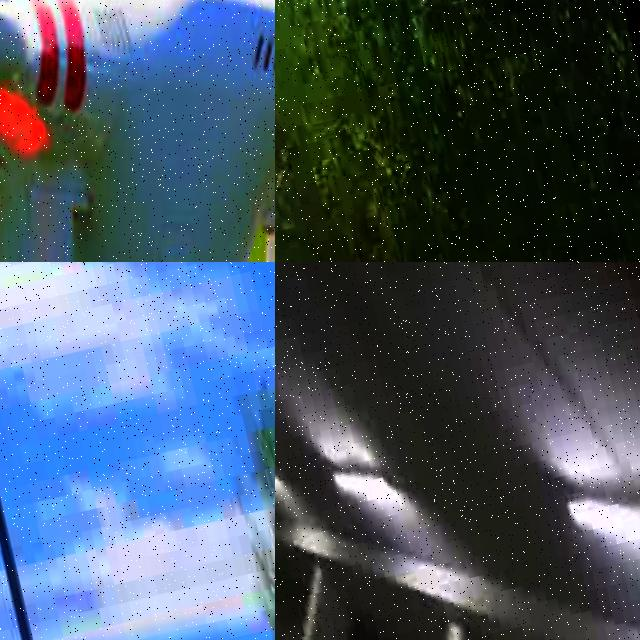drone: (0, 0, 275, 262)
